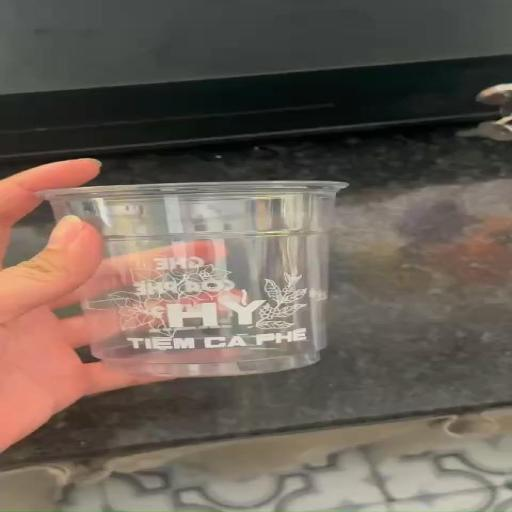ly_giay: (39, 181, 347, 377)
